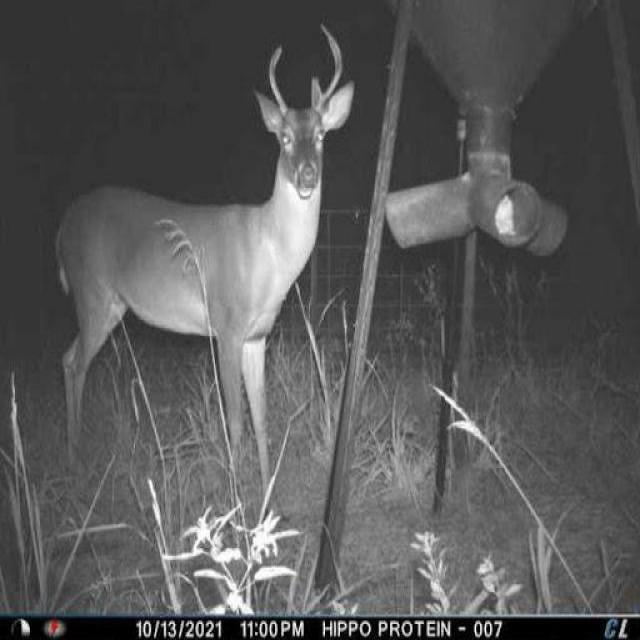deer: (48, 17, 362, 531)
